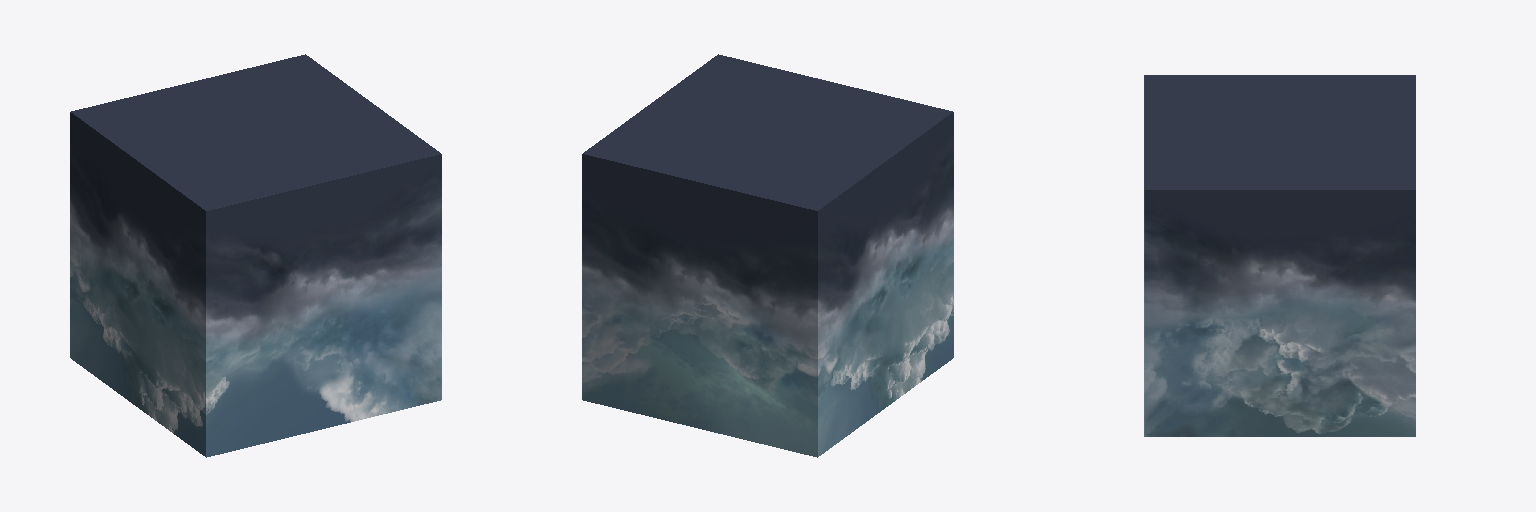
3 renders of one model, left to right at view 1: azimuth 30°, elevation 25°; view 2: azimuth 150°, elevation 25°; view 3: azimuth 270°, elevation 25°, orthographic.
Visible parts, largest first — view 1: Mesh_Cube_Cube.001; view 2: Mesh_Cube_Cube.001; view 3: Mesh_Cube_Cube.001.
Part boxes in pixels (x1,y1,x2,y2): Mesh_Cube_Cube.001: (70, 54, 441, 457); Mesh_Cube_Cube.001: (582, 54, 953, 457); Mesh_Cube_Cube.001: (1144, 75, 1415, 436).
Size of the model in its own units: 2 by 2 by 2.
Materials: 1 (1 with a texture image).